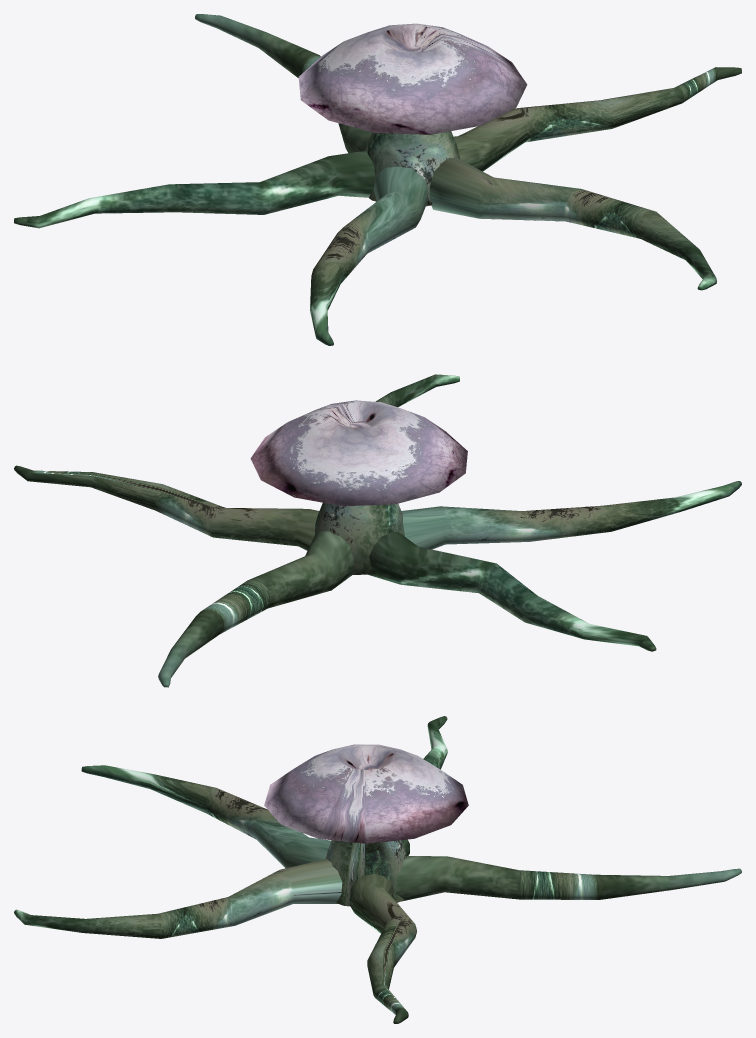
File: Star Mushroom.fbx
3 views of the same model, one above another, from view 1: azimuth 30°, elevation 25°; view 2: azimuth 150°, elevation 25°; view 3: azimuth 270°, elevation 25° (orthographic). The views are drawn at different scales.
Parts seen in each view (by area): view 1: Star Mushroom; view 2: Star Mushroom; view 3: Star Mushroom.
Part boxes in pixels (x1,y1,x2,y2): Star Mushroom: [14, 14, 741, 345]; Star Mushroom: [14, 374, 741, 687]; Star Mushroom: [14, 716, 741, 1023].
Bounding box in the file's own units: 99.05 × 20.57 × 99.86.
Materials: 2 (2 with a texture image).
